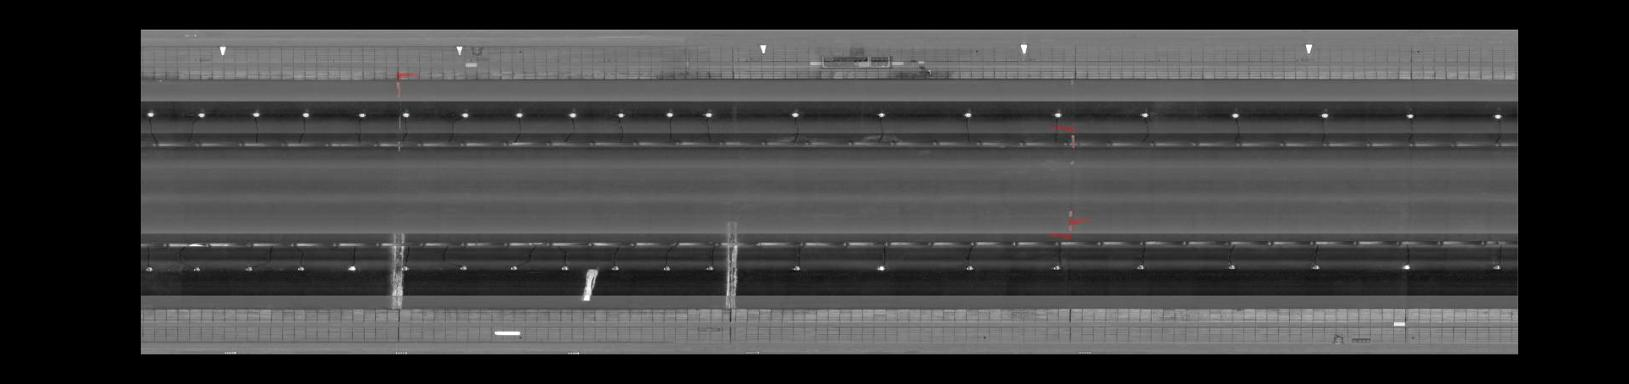light: (872, 260, 891, 274), (785, 109, 807, 120), (1306, 260, 1324, 274), (1130, 260, 1149, 273), (1488, 260, 1505, 273), (872, 108, 889, 120), (960, 262, 978, 274), (787, 263, 806, 274), (1398, 260, 1415, 273), (1227, 109, 1244, 121), (1223, 260, 1240, 272), (1048, 109, 1066, 120), (188, 260, 203, 274), (506, 262, 522, 274), (194, 108, 210, 120), (1136, 109, 1152, 120), (959, 109, 976, 120), (144, 262, 157, 276), (1048, 263, 1064, 274), (660, 263, 675, 274), (662, 109, 677, 120), (344, 262, 359, 273), (298, 109, 314, 120), (457, 109, 473, 120), (565, 109, 581, 120), (1490, 111, 1506, 121), (1316, 110, 1333, 120), (556, 263, 572, 273), (248, 109, 265, 119), (607, 263, 621, 274), (512, 109, 527, 120), (1403, 111, 1420, 120), (292, 263, 308, 273), (703, 263, 717, 274), (614, 109, 627, 120), (457, 263, 471, 274), (144, 109, 158, 120), (354, 109, 368, 120), (399, 108, 413, 118), (700, 109, 716, 118), (242, 263, 255, 274), (400, 263, 413, 273)
